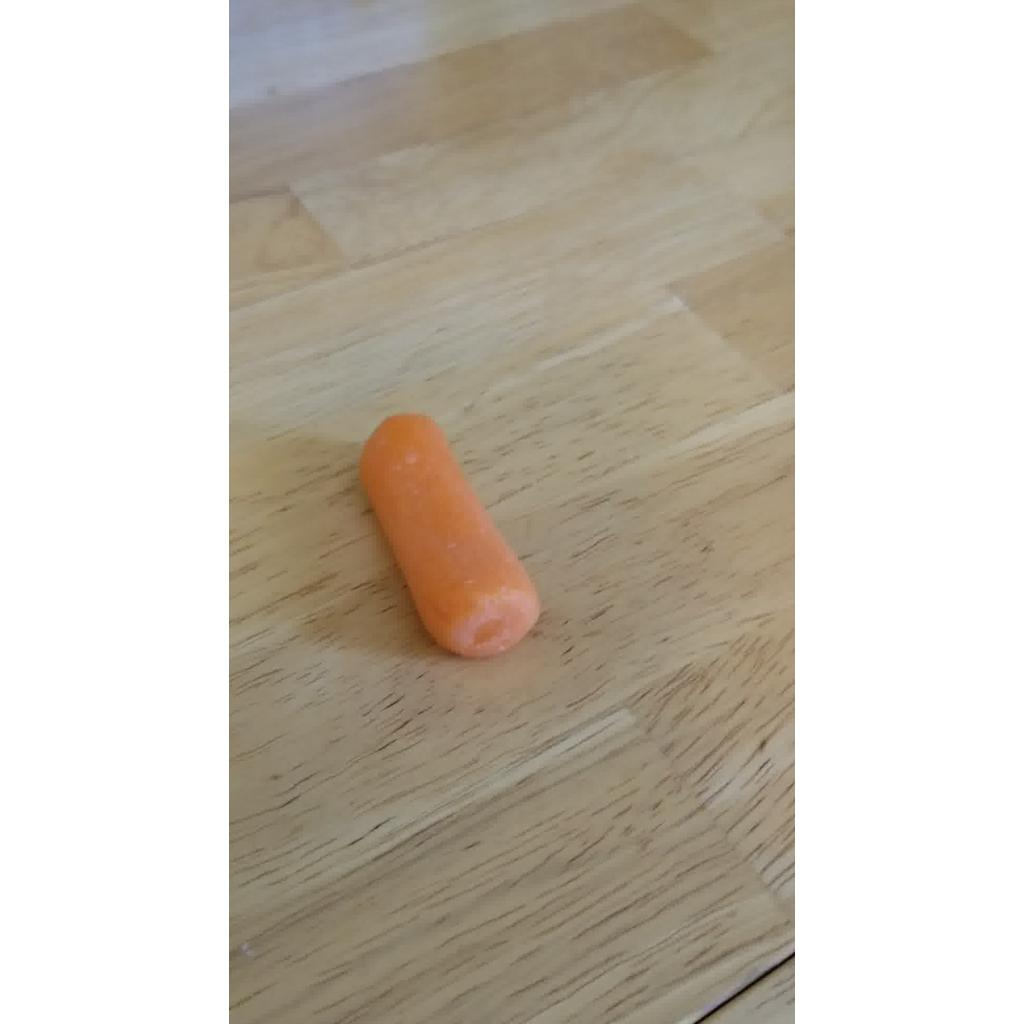carrot: (361, 414, 539, 656)
